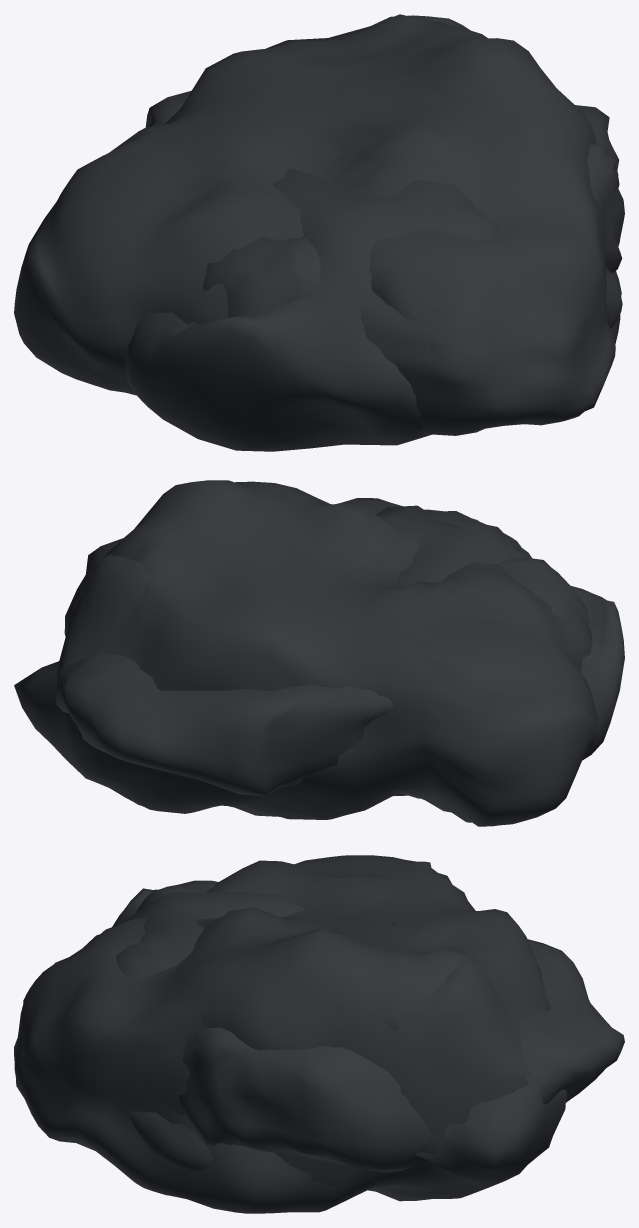
Rendered from rocks_differentSizes_mod_01.fbx.
3 views of the same model, one above another, from view 1: azimuth 30°, elevation 25°; view 2: azimuth 150°, elevation 25°; view 3: azimuth 270°, elevation 25° (orthographic). The views are drawn at different scales.
Visible parts, largest first — view 1: rock_big_03, rock_big_02, BASE_rock_big, rock_big_01; view 2: rock_big_03, rock_big_01, BASE_rock_big, rock_big_02; view 3: rock_big_03, rock_big_01, BASE_rock_big, rock_big_02.
Boxes of the visible parts, x1,y1,x2,y2 form: rock_big_03: [14, 14, 621, 435]; rock_big_02: [125, 78, 622, 451]; BASE_rock_big: [279, 15, 605, 422]; rock_big_01: [145, 90, 624, 317]; rock_big_03: [14, 480, 597, 826]; rock_big_01: [56, 538, 589, 796]; BASE_rock_big: [57, 487, 531, 671]; rock_big_02: [258, 505, 624, 795]; rock_big_03: [14, 855, 566, 1213]; rock_big_01: [136, 880, 624, 1172]; BASE_rock_big: [136, 889, 531, 1187]; rock_big_02: [112, 888, 400, 1170].
Bounding box in the file's own units: 6.12 × 6.41 × 3.1.
